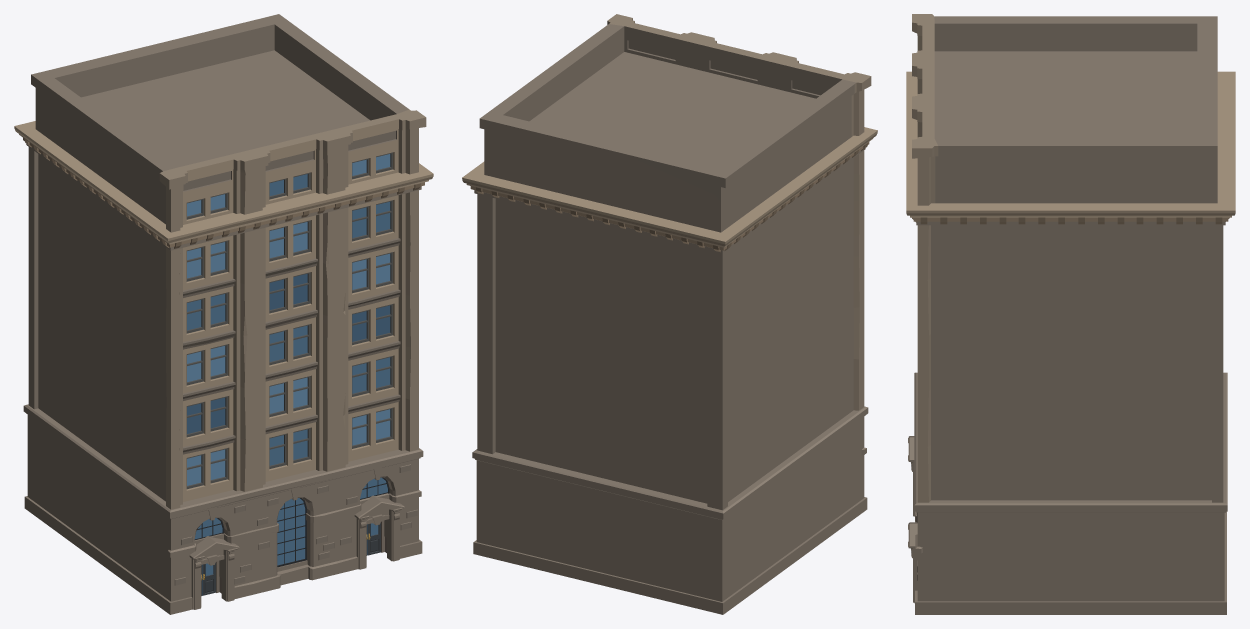
File: sc-office-b.glb
3 renders of one model, left to right at view 1: azimuth 30°, elevation 25°; view 2: azimuth 150°, elevation 25°; view 3: azimuth 270°, elevation 25°, orthographic. The views are drawn at different scales.
Parts seen in each view (by area): view 1: SM_Bld_OfficeOld_Large_02; view 2: SM_Bld_OfficeOld_Large_02; view 3: SM_Bld_OfficeOld_Large_02.
Part boxes in pixels (x1=…): SM_Bld_OfficeOld_Large_02: x1=14, y1=14, x2=433, y2=614; SM_Bld_OfficeOld_Large_02: x1=462, y1=14, x2=877, y2=614; SM_Bld_OfficeOld_Large_02: x1=906, y1=14, x2=1235, y2=614.
Bounding box in the file's own units: 21.66 × 34 × 21.71.
Materials: 1 (1 with a texture image).
